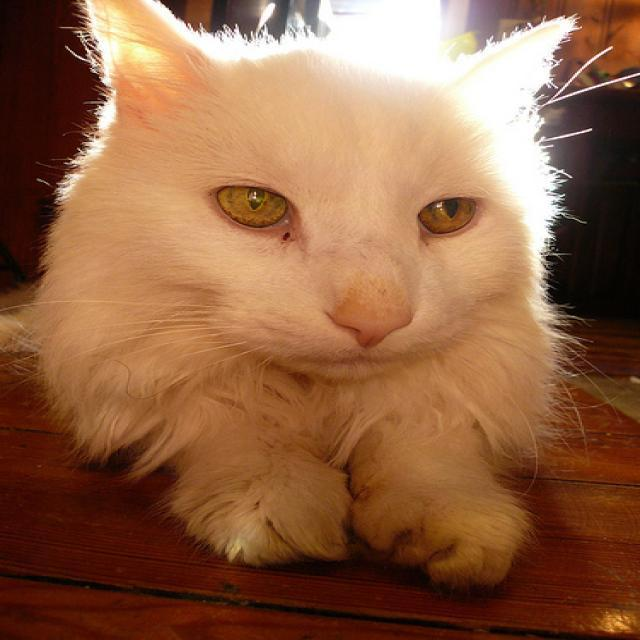Maine_Coon: (62, 0, 582, 383)
